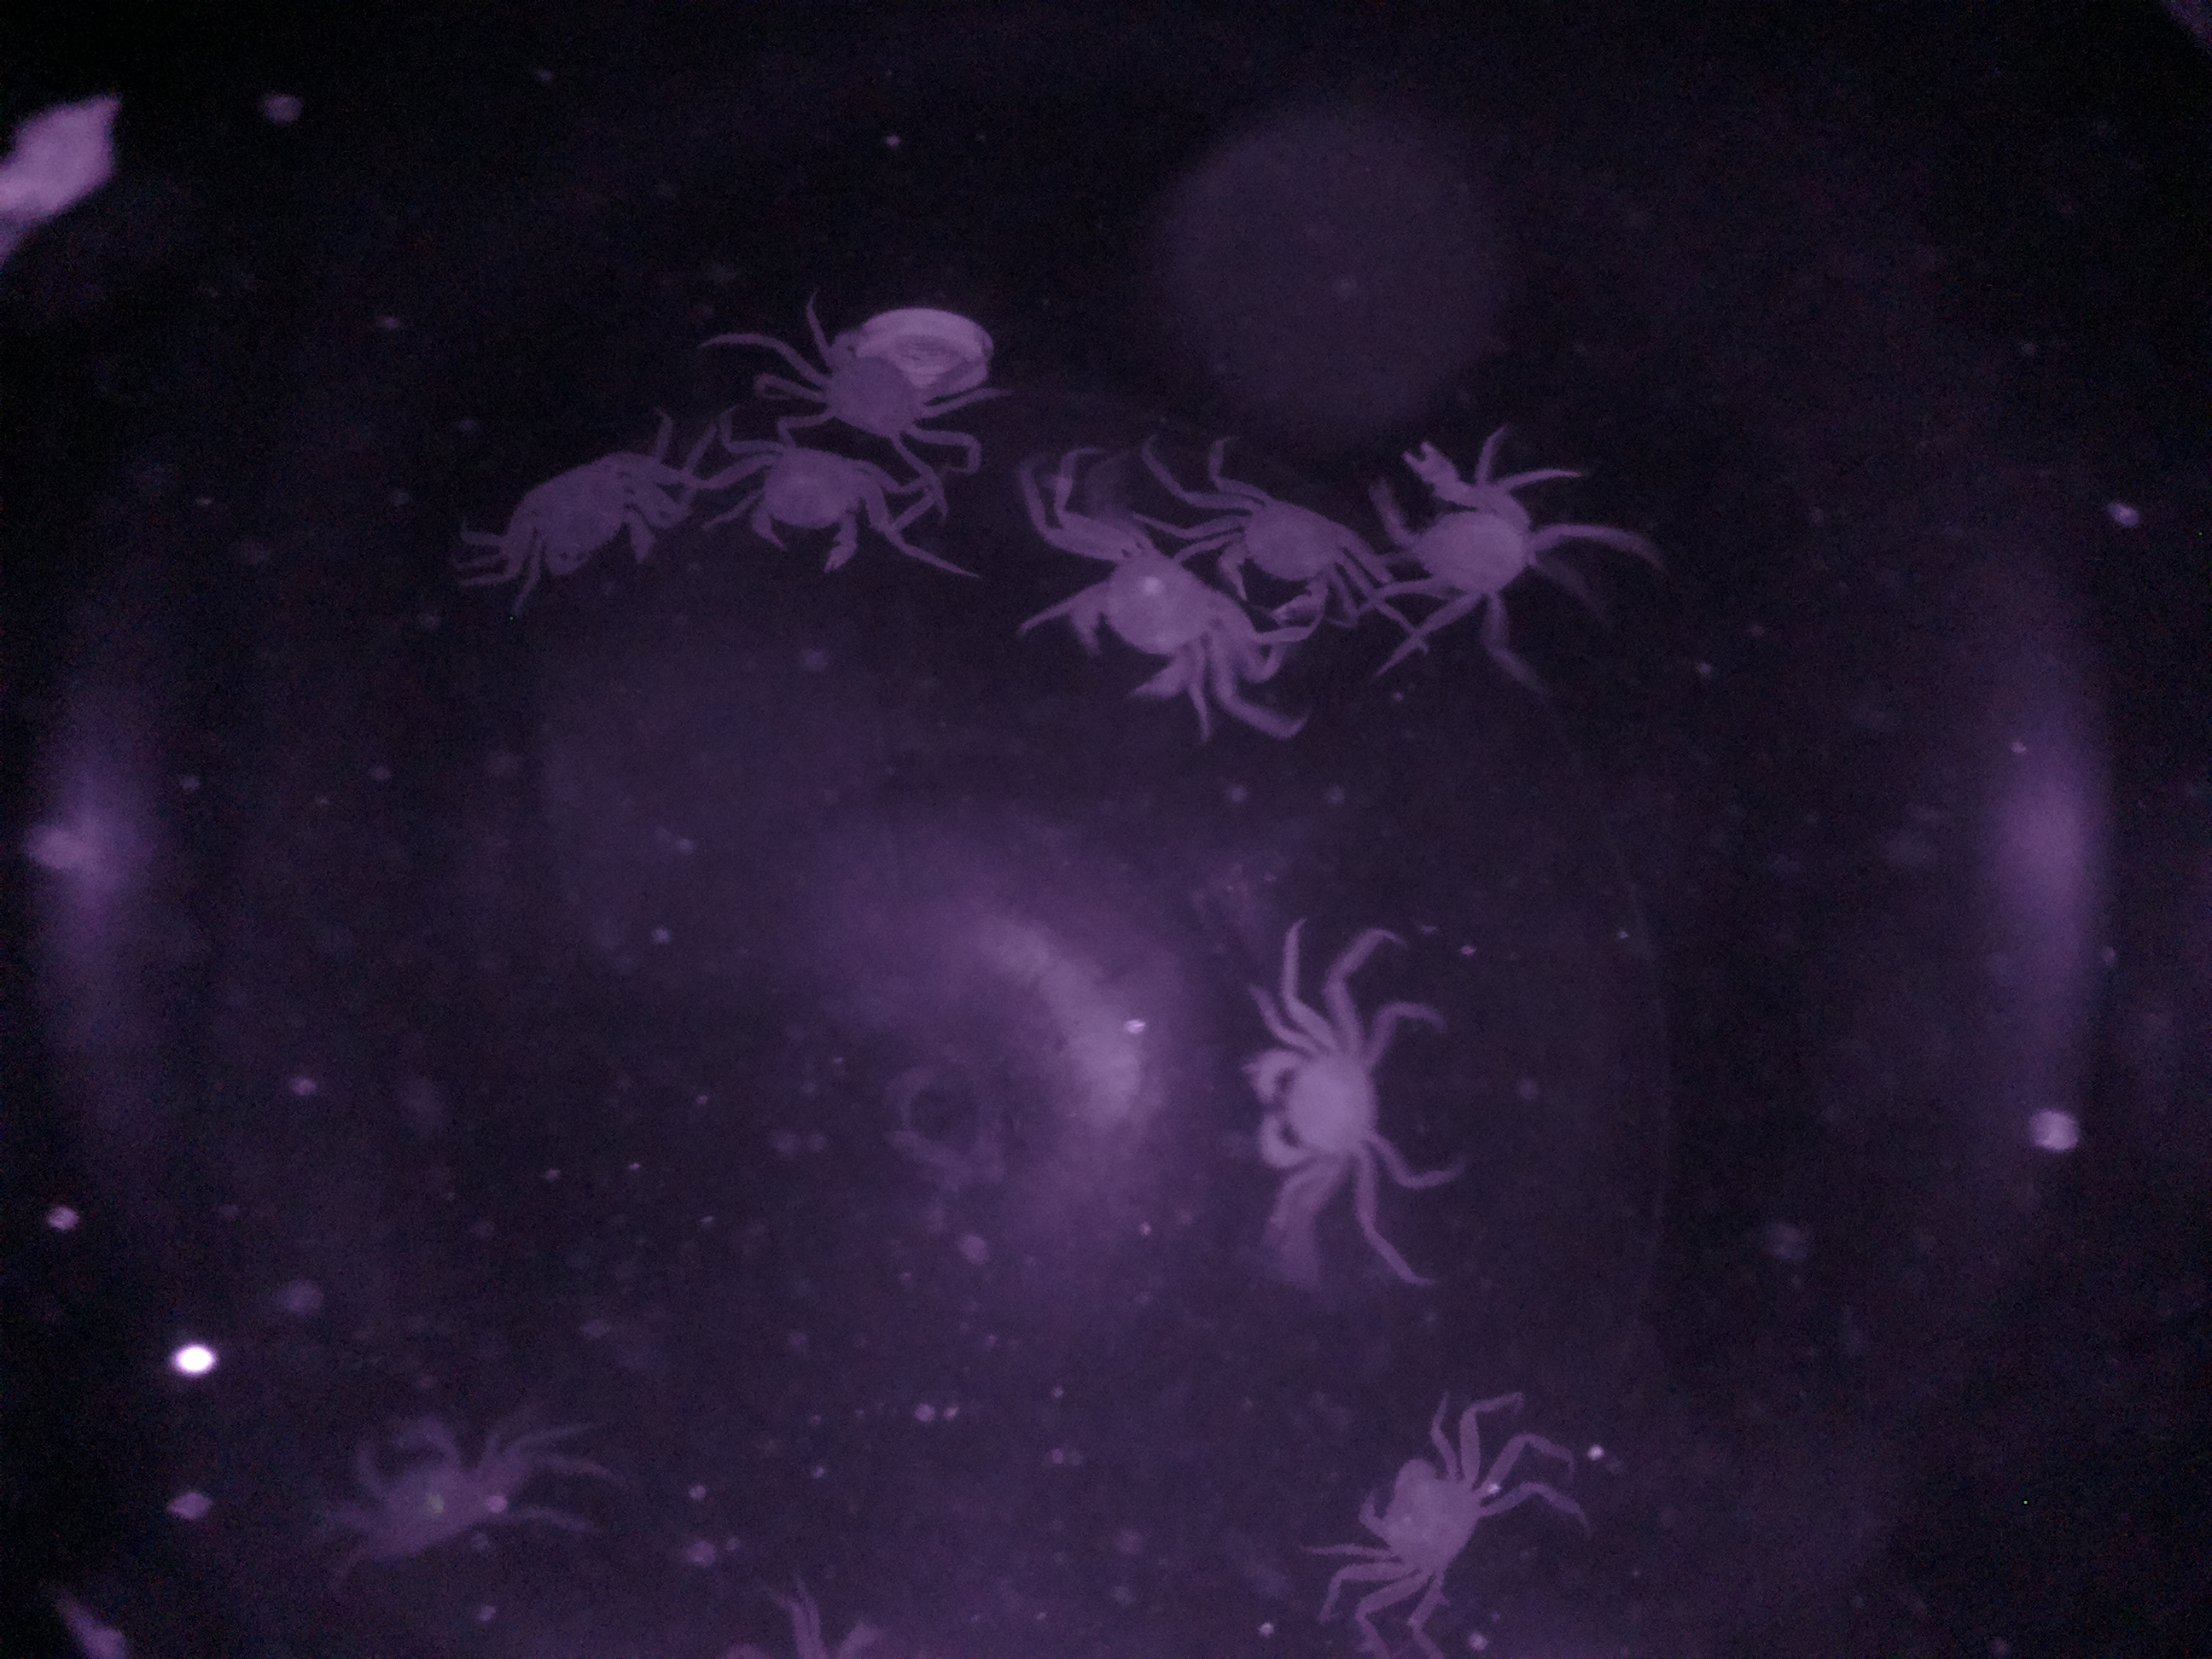Crab: (1228, 981, 1416, 1220), (1334, 1403, 1521, 1610), (475, 423, 700, 594), (712, 416, 932, 591), (1200, 458, 1385, 626)
